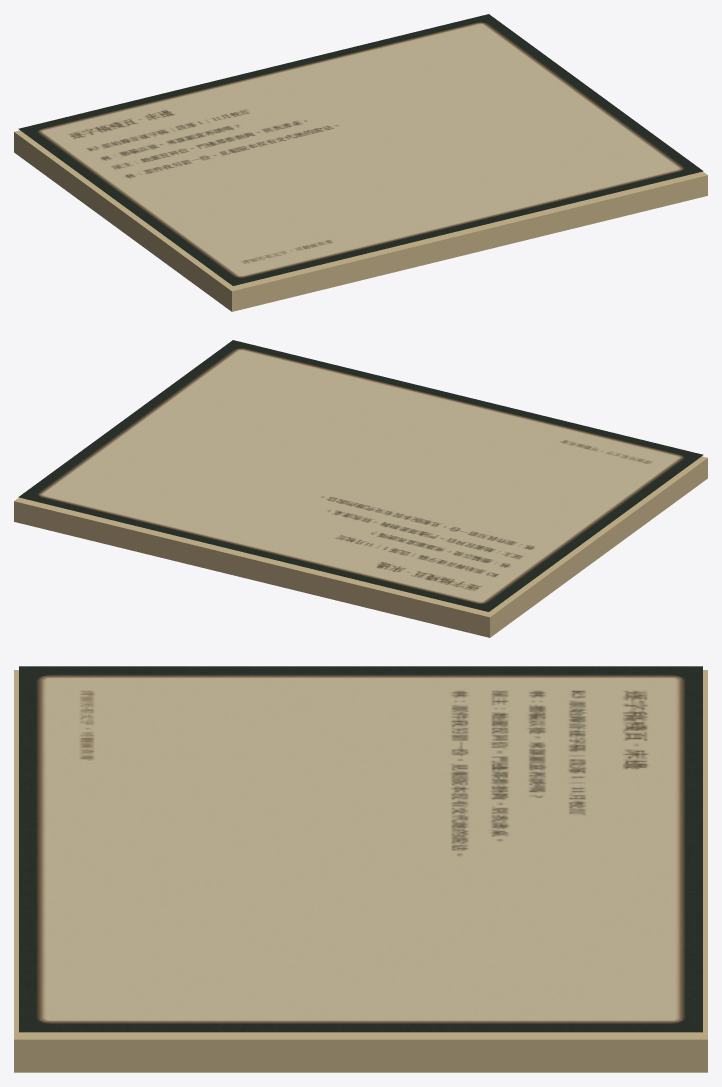
The picture shows the model from 3 angles, top to bottom: view 1: azimuth 30°, elevation 25°; view 2: azimuth 150°, elevation 25°; view 3: azimuth 270°, elevation 25°; orthographic projection. The views are drawn at different scales.
Parts seen in each view (by area): view 1: a-fragment0; view 2: a-fragment0; view 3: a-fragment0.
Boxes of the visible parts, x1=… form: a-fragment0: x1=14, y1=14, x2=707, y2=311; a-fragment0: x1=14, y1=340, x2=707, y2=637; a-fragment0: x1=14, y1=666, x2=707, y2=1072.
Size of the model in its own units: 0.29 by 0.014 by 0.23.
2 materials, 1 textured.
